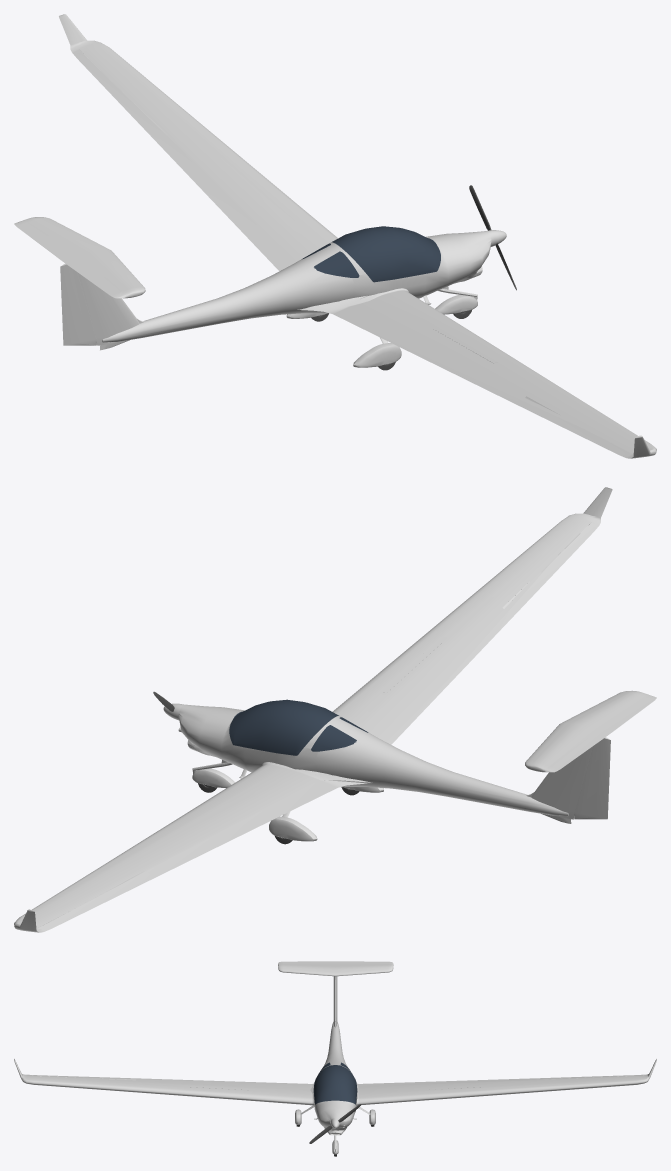
3 views of the same model, one above another, from view 1: azimuth 30°, elevation 25°; view 2: azimuth 150°, elevation 25°; view 3: azimuth 270°, elevation 25° (orthographic). The views are drawn at different scales.
Visible parts, largest first — view 1: body, glass; view 2: body, glass; view 3: body, glass.
Part boxes in pixels (bbox=[...]): body: bbox=[14, 14, 656, 458]; glass: bbox=[302, 226, 440, 282]; body: bbox=[14, 487, 656, 932]; glass: bbox=[229, 699, 368, 755]; body: bbox=[14, 961, 656, 1154]; glass: bbox=[313, 1062, 357, 1104].
Size of the model in its own units: 0.982 by 0.3303 by 2.2.
